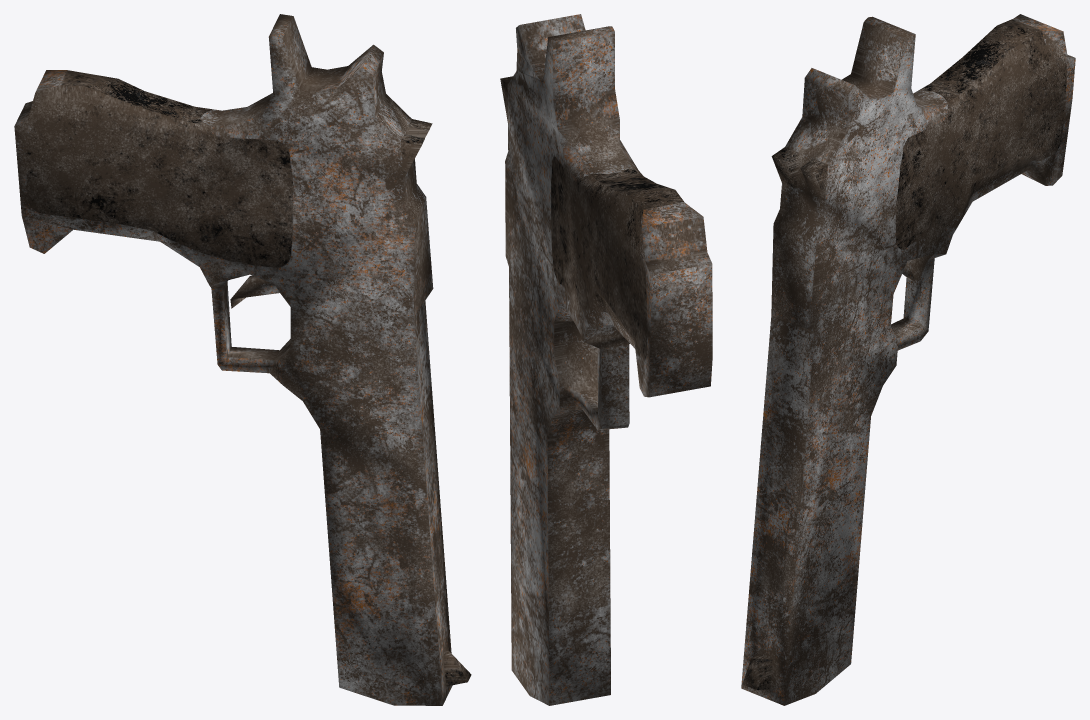
File: Anim_idle_pistola_objetos.0027.obj
3 views of the same model, side by side, from view 1: azimuth 30°, elevation 25°; view 2: azimuth 150°, elevation 25°; view 3: azimuth 270°, elevation 25° (orthographic). The views are drawn at different scales.
Visible parts, largest first — view 1: Pistola1; view 2: Pistola1; view 3: Pistola1.
Part boxes in pixels (x1=…): Pistola1: x1=14, y1=14, x2=471, y2=705; Pistola1: x1=500, y1=14, x2=712, y2=705; Pistola1: x1=741, y1=14, x2=1075, y2=705.
Bounding box in the file's own units: 0.8537 × 1.69 × 0.8167.
